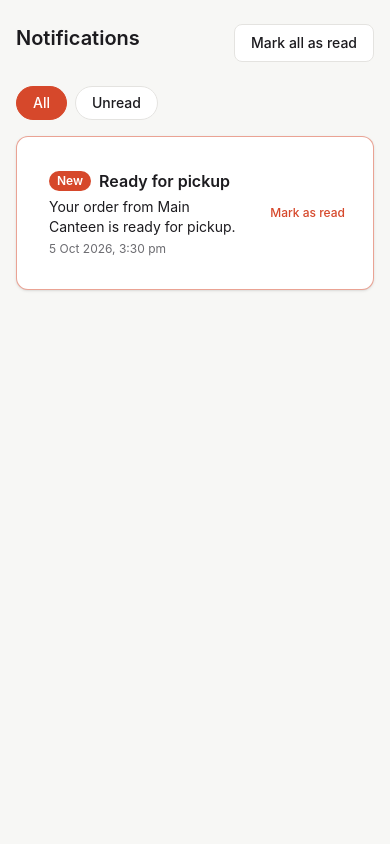
Scenario: NotificationsView — All / Unread › shows an all-caught-up state for an empty Unread list, with a way back to All
The image size is (390, 844).
Click the button "Unread". click: (116, 103)
box: [75,86,158,120]
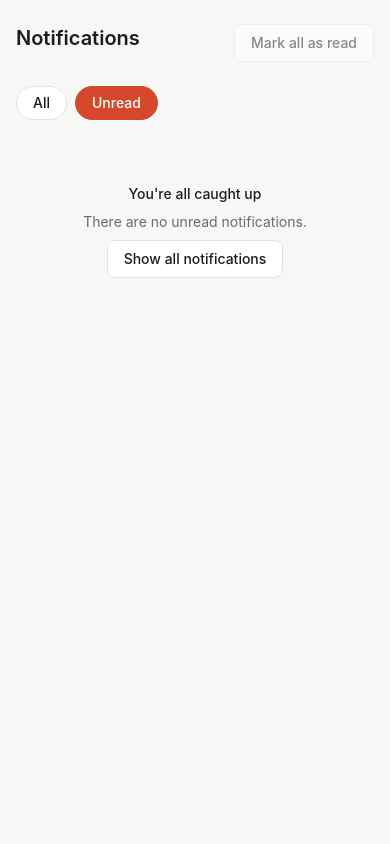
Check: the text "You're all caught up" is shown, box [128,184,261,204]
Click the button "Show all notifications". click: (195, 259)
box: [107,240,283,278]
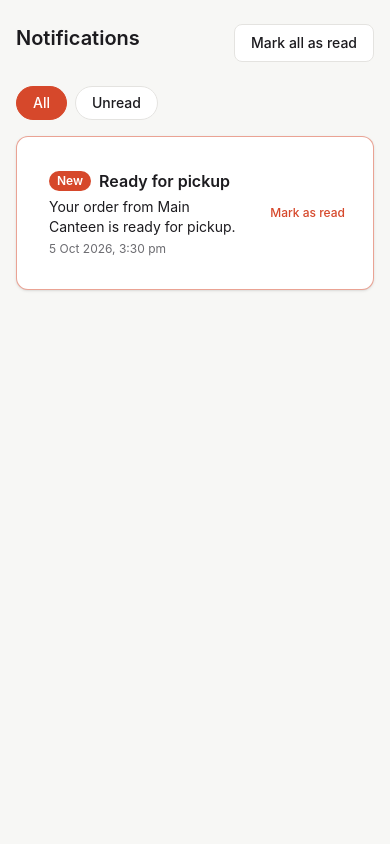
Check: the number of list items is 1, box [16,136,374,290]
